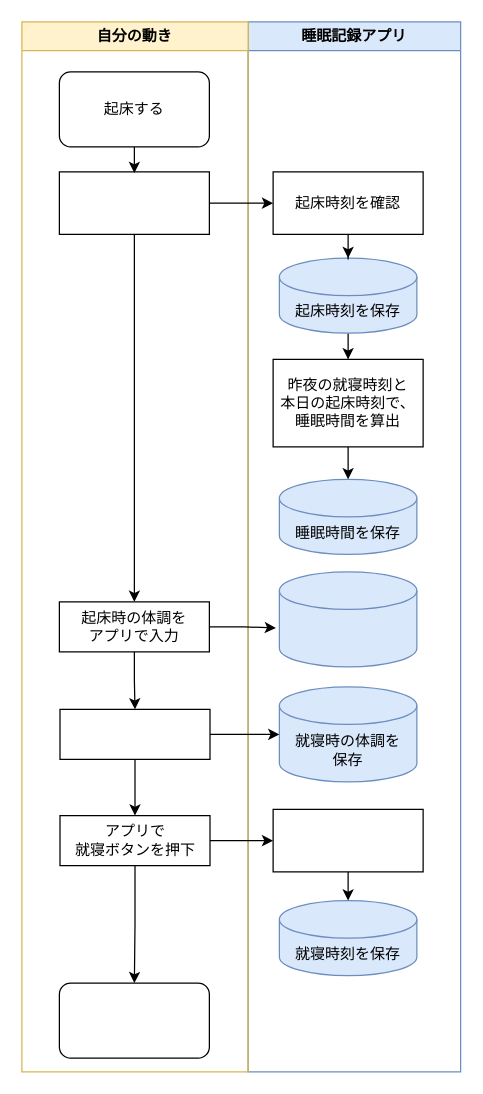
Some shapes in this 483 by 1094 pixel diagram are drawn without their labels. Here are the shapes that lost their labels. From the top down, the box of each, then its label:
(58, 171, 209, 234): アプリで 起床ボタンを押下
(278, 571, 417, 667): 起床時の体調を 保存
(59, 708, 210, 759): 就寝時の体調を アプリで入力
(272, 808, 423, 872): 就寝時刻を確認
(58, 982, 209, 1058): 就寝する
